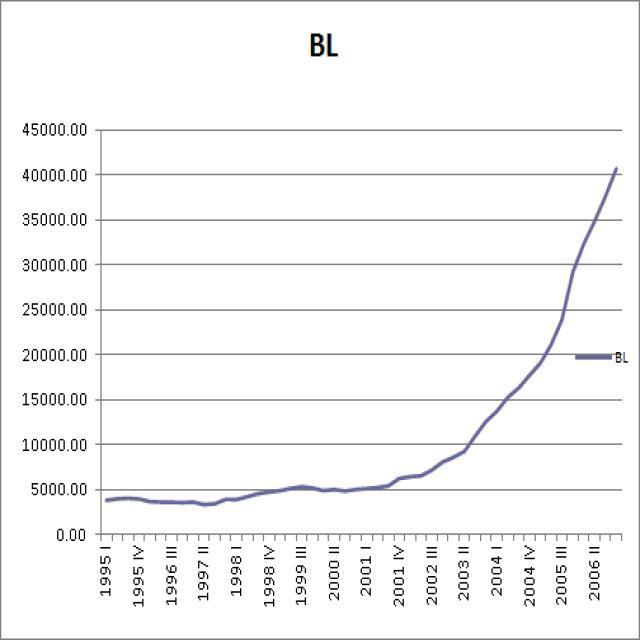axis: (92, 532, 629, 545), (92, 115, 105, 544)
line: (104, 164, 623, 509)
